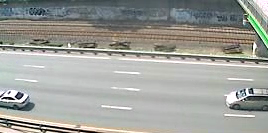car: (222, 85, 268, 115), (1, 87, 32, 110)
